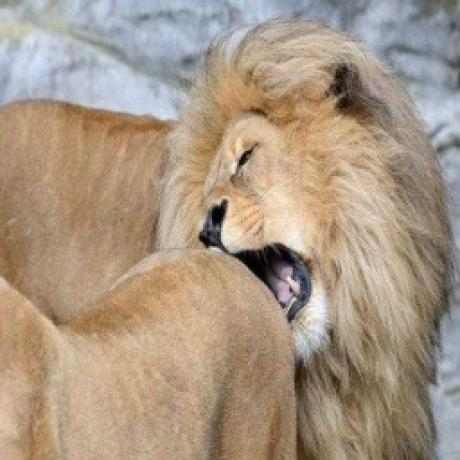Lion: (0, 14, 456, 459)
